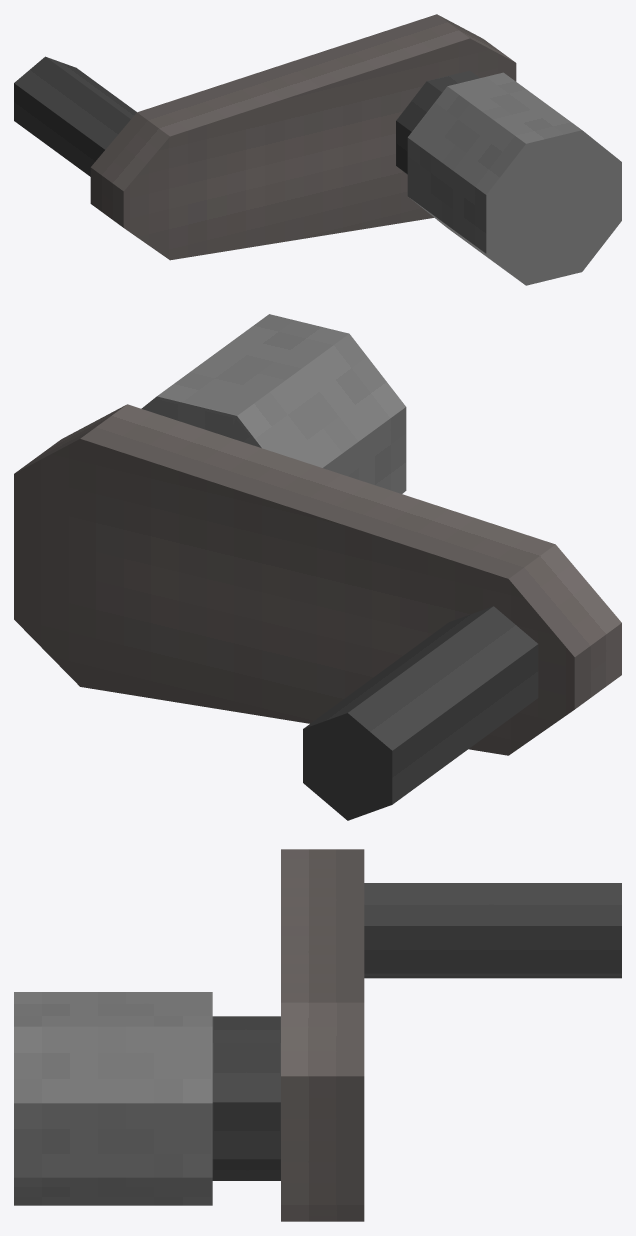
Rendered from handle.obj.
The picture shows the model from 3 angles, top to bottom: view 1: azimuth 30°, elevation 25°; view 2: azimuth 150°, elevation 25°; view 3: azimuth 270°, elevation 25°; orthographic projection. The views are drawn at different scales.
Parts seen in each view (by area): view 1: Цилиндр; view 2: Цилиндр; view 3: Цилиндр.
Part boxes in pixels (x1,y1,x2,y2): Цилиндр: (14, 14, 621, 285); Цилиндр: (14, 314, 621, 820); Цилиндр: (14, 849, 621, 1221).
Size of the model in its own units: 0.7238 by 0.306 by 0.7696.
